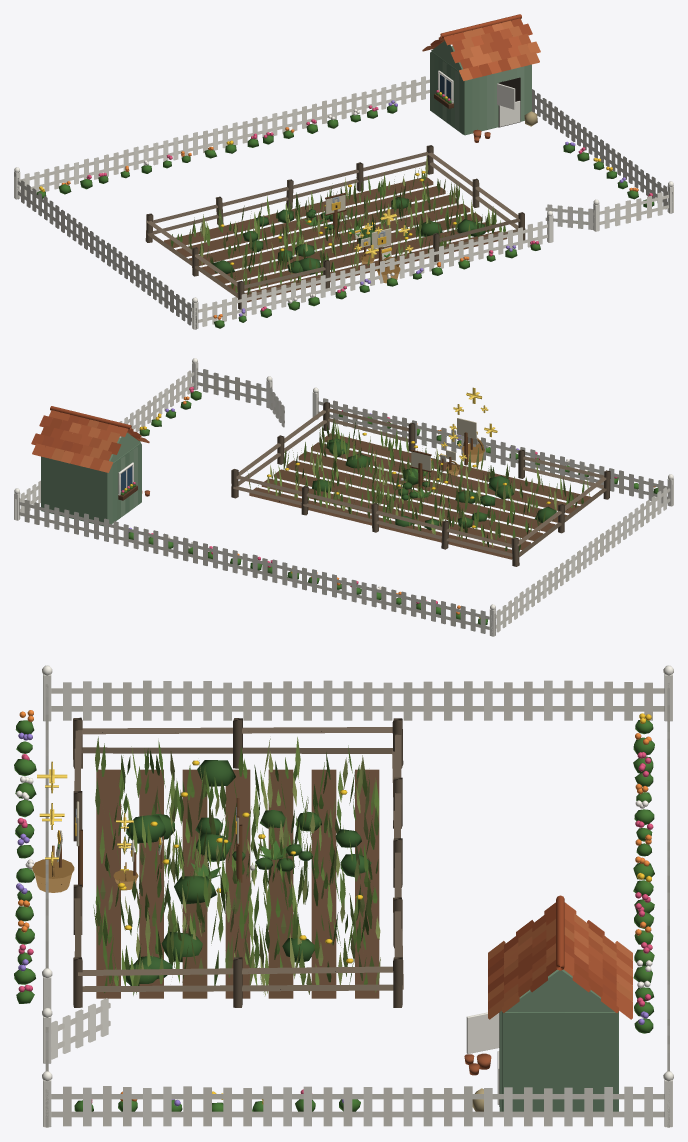
File: garden3.glb
3 views of the same model, one above another, from view 1: azimuth 30°, elevation 25°; view 2: azimuth 150°, elevation 25°; view 3: azimuth 270°, elevation 25° (orthographic). The views are drawn at different scales.
Parts seen in each view (by area): view 1: field_wild, garden_yard, potting_shed, garden_wild, field_ready, lock_sign; view 2: field_wild, garden_yard, potting_shed, garden_wild, field_ready, lock_sign; view 3: field_wild, garden_yard, potting_shed, garden_wild, field_ready.
Part boxes in pixels (box(x1,y1,x2,y2)): field_wild: box(145, 145, 525, 309); garden_yard: box(14, 76, 673, 329); potting_shed: box(422, 14, 540, 142); garden_wild: box(290, 199, 371, 256); field_ready: box(365, 209, 413, 283); lock_sign: box(325, 192, 346, 238); field_wild: box(231, 402, 610, 566); garden_yard: box(14, 358, 673, 636); potting_shed: box(31, 406, 149, 526); garden_wild: box(382, 450, 455, 506); field_ready: box(449, 387, 497, 462); lock_sign: box(410, 449, 431, 492); field_wild: box(73, 717, 403, 1007); garden_yard: box(14, 665, 673, 1127); potting_shed: box(464, 895, 632, 1111); garden_wild: box(130, 822, 323, 886); field_ready: box(32, 761, 74, 892).
Size of the model in its own units: 7.89 by 1.51 by 5.36.
